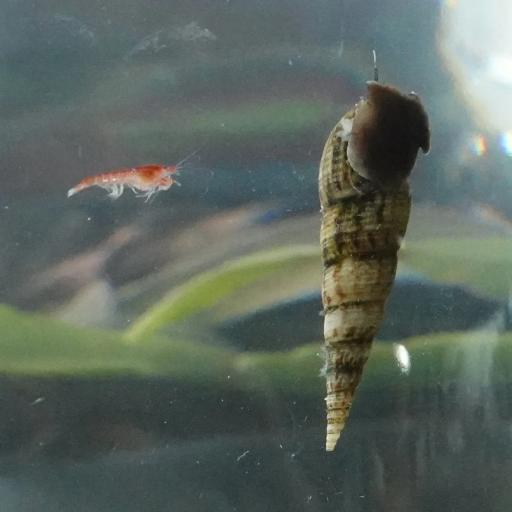Shrimp: (58, 157, 185, 205)
Snail: (310, 46, 436, 470)
